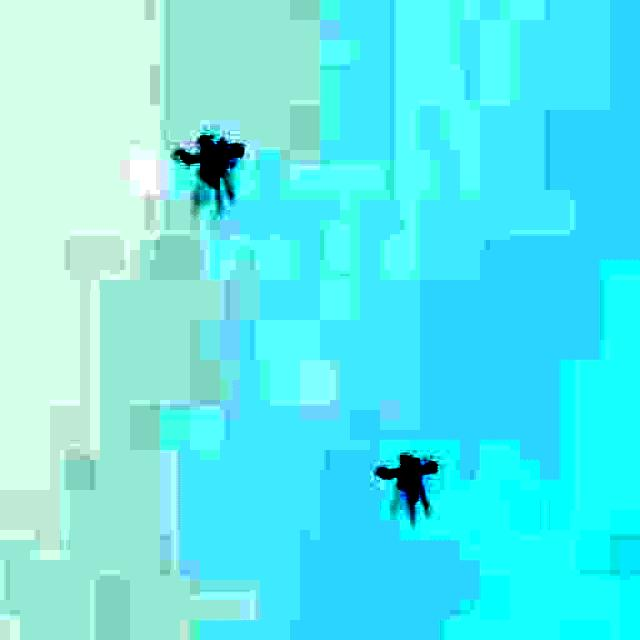bird: (370, 446, 449, 524), (175, 122, 251, 192)
